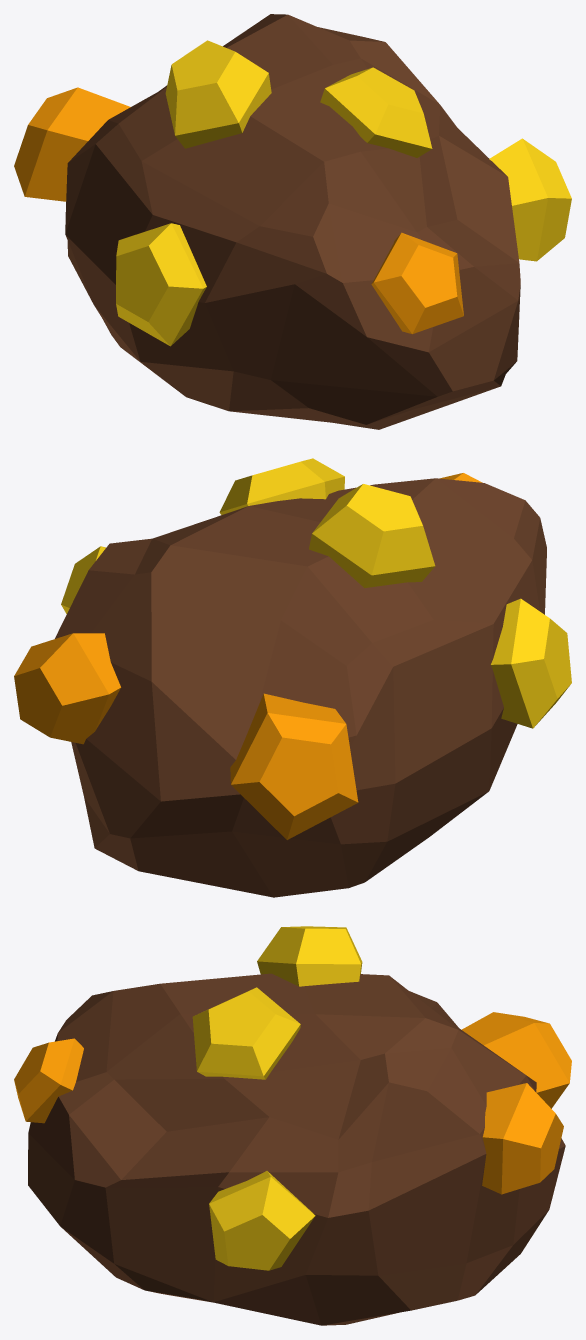
File: MineralNode_06_A.fbx
3 renders of one model, top to bottom at view 1: azimuth 30°, elevation 25°; view 2: azimuth 150°, elevation 25°; view 3: azimuth 270°, elevation 25°, orthographic. The views are drawn at different scales.
Parts seen in each view (by area): view 1: MineralNode_06_A; view 2: MineralNode_06_A; view 3: MineralNode_06_A.
Boxes of the visible parts, x1,y1,x2,y2 form: MineralNode_06_A: (14, 14, 571, 429); MineralNode_06_A: (14, 458, 571, 897); MineralNode_06_A: (14, 926, 571, 1325).
Size of the model in its own units: 91.51 by 67.1 by 107.
